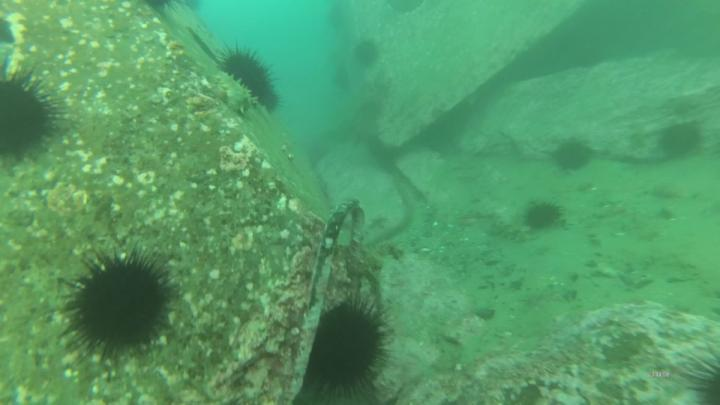echinus: (62, 245, 172, 368), (310, 291, 380, 389), (1, 72, 55, 166), (223, 49, 283, 117), (658, 120, 707, 162), (548, 139, 596, 176), (522, 197, 567, 234), (350, 36, 381, 71)
